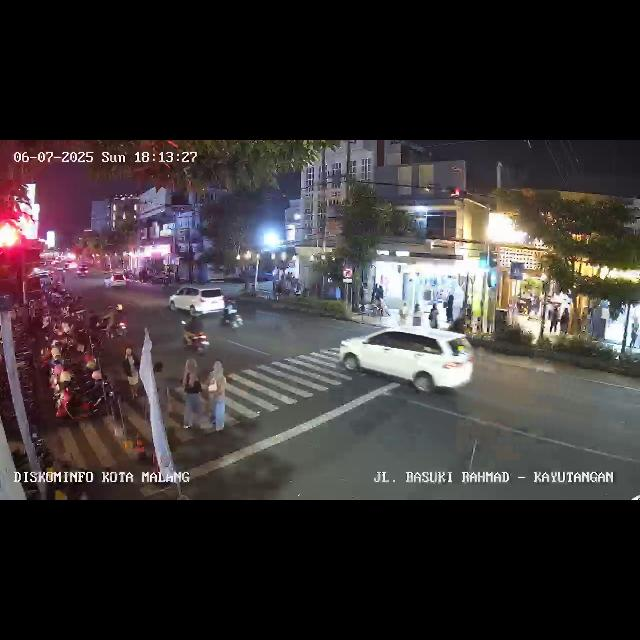car: (338, 324, 476, 396), (168, 284, 228, 318), (104, 271, 128, 289)
motorcycle: (180, 312, 210, 352), (220, 296, 244, 332)
person: (182, 362, 208, 434), (206, 360, 228, 434), (121, 340, 139, 390), (377, 285, 388, 315), (560, 304, 570, 336), (549, 303, 559, 335), (443, 294, 452, 326), (428, 302, 438, 330), (412, 300, 422, 328), (631, 322, 639, 352), (398, 300, 408, 322)
